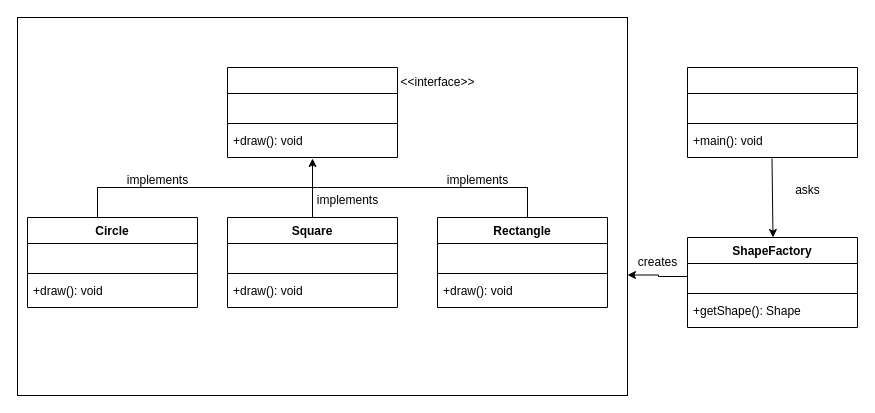
The diagram is 875 pixels wide and 413 high, and some of its shapes have lost their labels. The shapes that lost their labels are listed below. From the top down, each one's box as (x1, y1, x2, y2) in pixels, then its label:
(226, 66, 398, 158): Shape
(686, 66, 858, 158): FactoryPattern
